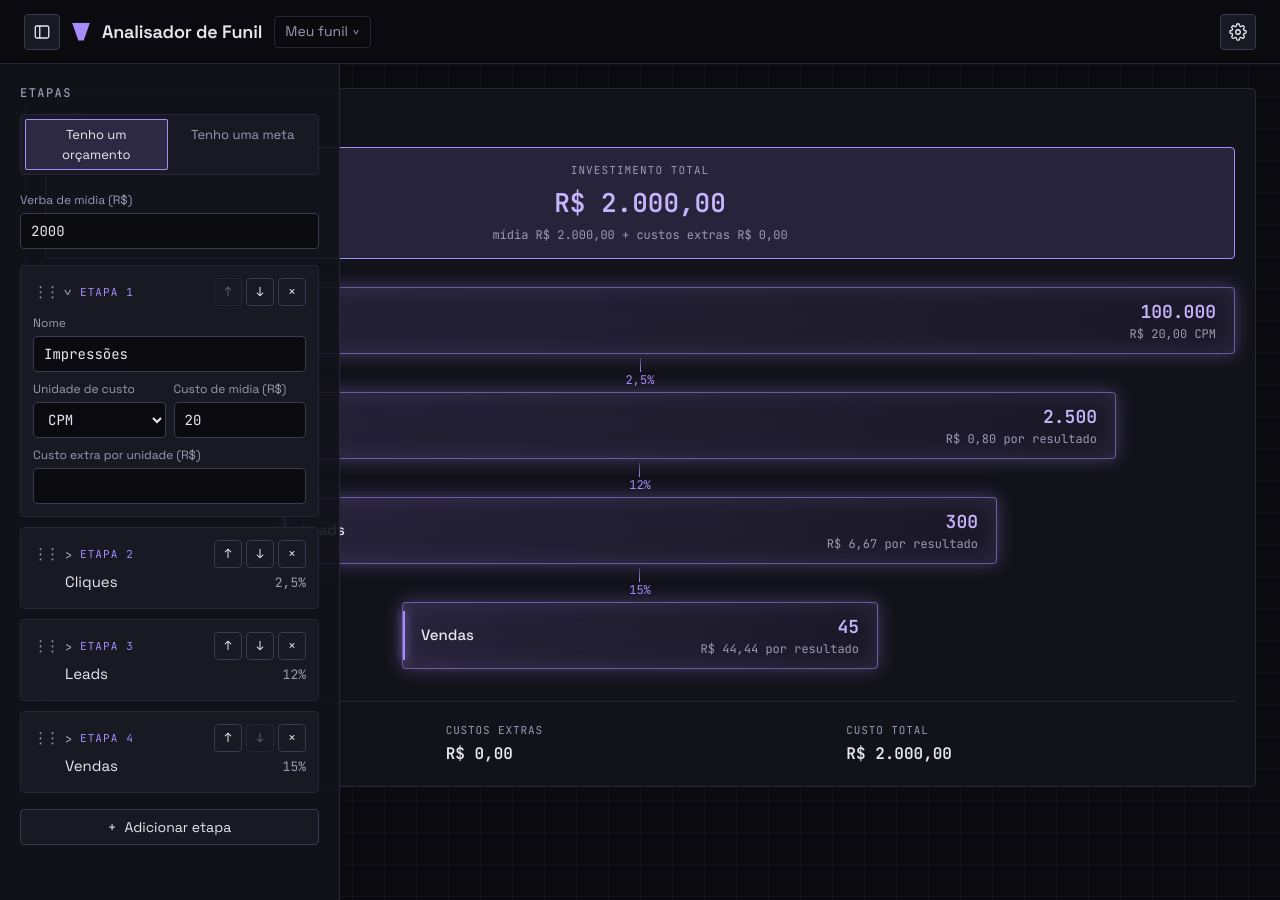
Scenario: mover uma etapa com nenhuma aberta abre a movida
Click the button "› Etapa 1": [186, 292] box [65, 278, 306, 306]
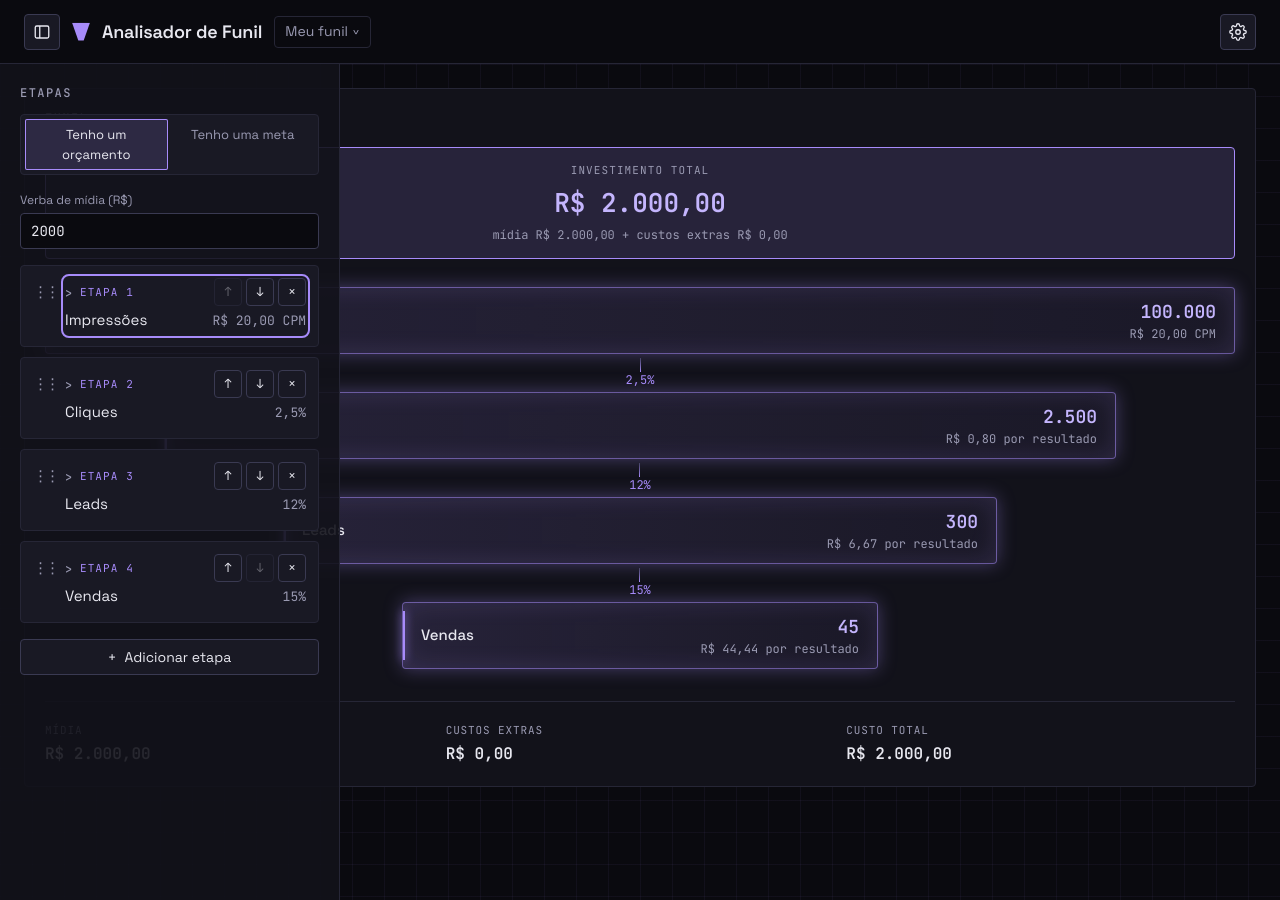
Click the button named "Mover para cima": [228, 568] box [214, 554, 242, 582]
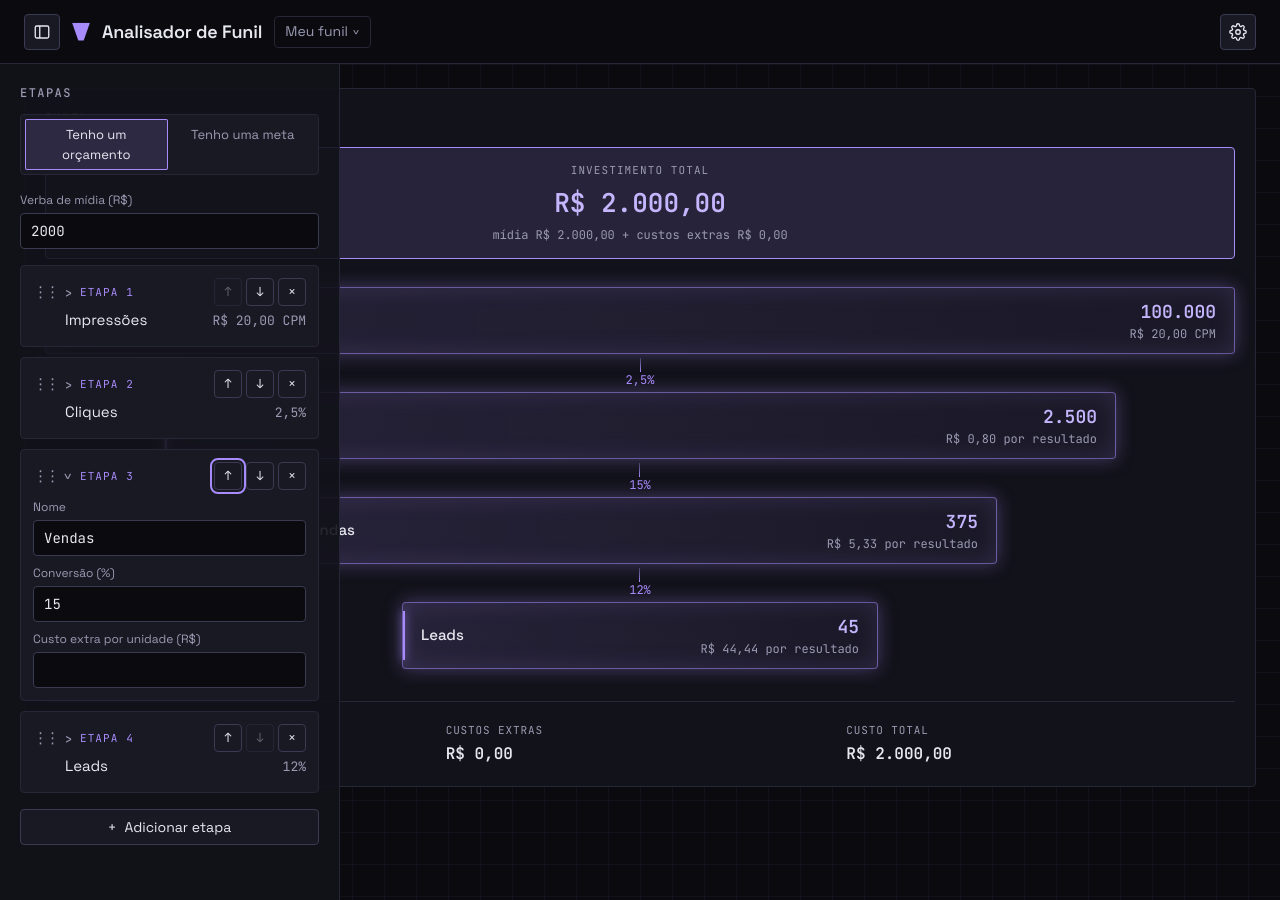
Check: the field labelled "Nome" holds "Vendas", box [33, 520, 306, 556]
